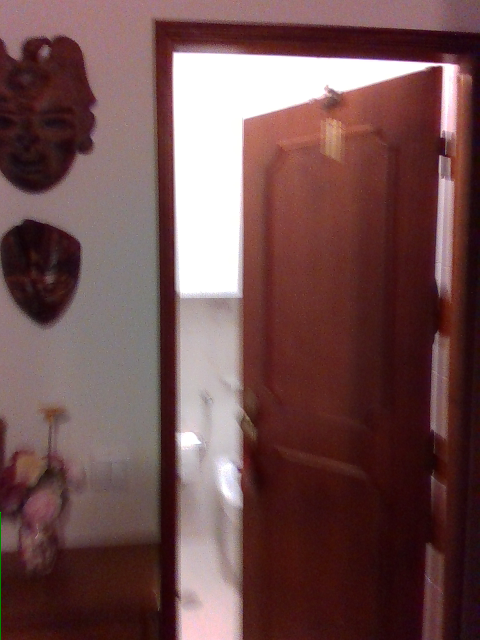semi: (155, 21, 476, 639)
